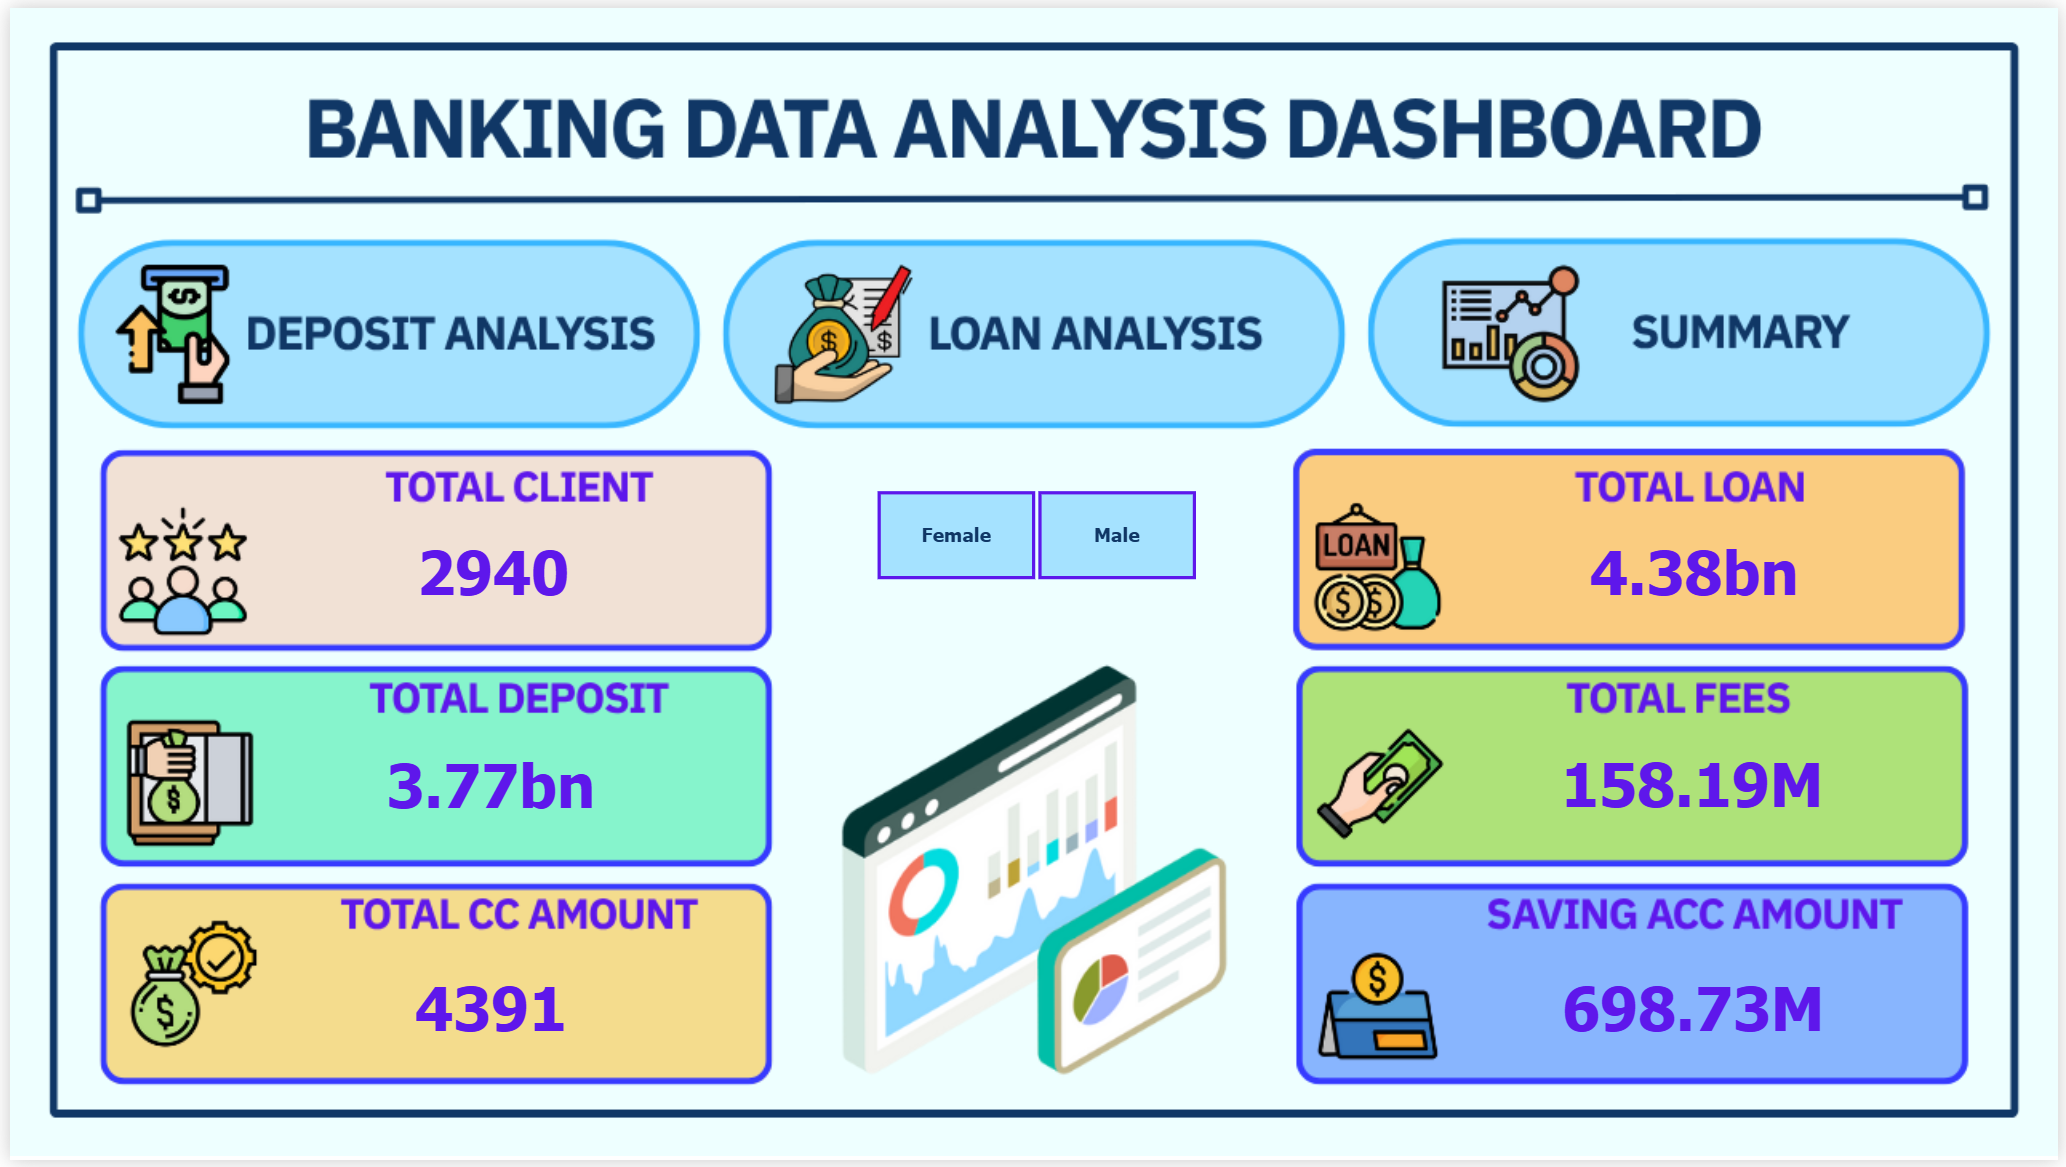

The page's visual inventory and layout, read from the dashboard file:
{"tool":"powerbi","page":{"name":"Home Page","canvas":[1280,720],"ordinal":0},"visuals":[{"type":"card","fields":{"Values":[" Measures.Total Clients"]},"box":[202.5,295,198.8,115],"z":0},{"type":"card","fields":{"Values":[" Measures.Total Loan"]},"box":[961.2,295,182.5,115],"z":1000},{"type":"card","fields":{"Values":[" Measures.Total Deposit"]},"box":[201.7,436.7,198.3,98.3],"z":2000},{"type":"card","fields":{"Values":[" Measures.Total CC Amount"]},"box":[201.2,585,198.8,80],"z":3000},{"type":"card","fields":{"Values":[" Measures.Total Fees"]},"box":[958.8,435,185,100],"z":4000},{"type":"card","fields":{"Values":[" Measures.Savings Account"]},"box":[952.5,585,198.8,80],"z":5000},{"type":"slicer","fields":{"Values":["bank_analysis customer.Gender"]},"box":[516.2,295,248.8,68.8],"z":6000},{"type":"actionButton","box":[42.7,148.2,385.5,110.9],"z":7000},{"type":"actionButton","box":[447.8,147.8,385.6,111.1],"z":8000},{"type":"actionButton","box":[848.6,147.1,385.7,111.4],"z":9000}]}

Visuals, with their boxes in screenshot pixels (x1, y1, x2, y2), scaled from the page's 1280x720 canvas onto the 2066x1167 screenshot:
card -  Measures.Total Clients: locate(327, 478, 648, 665)
card -  Measures.Total Loan: locate(1551, 478, 1846, 665)
card -  Measures.Total Deposit: locate(326, 708, 646, 867)
card -  Measures.Total CC Amount: locate(325, 948, 646, 1078)
card -  Measures.Total Fees: locate(1548, 705, 1846, 867)
card -  Measures.Savings Account: locate(1537, 948, 1858, 1078)
slicer - bank_analysis customer.Gender: locate(833, 478, 1235, 590)
actionButton: locate(69, 240, 691, 420)
actionButton: locate(723, 240, 1345, 420)
actionButton: locate(1370, 238, 1992, 419)
